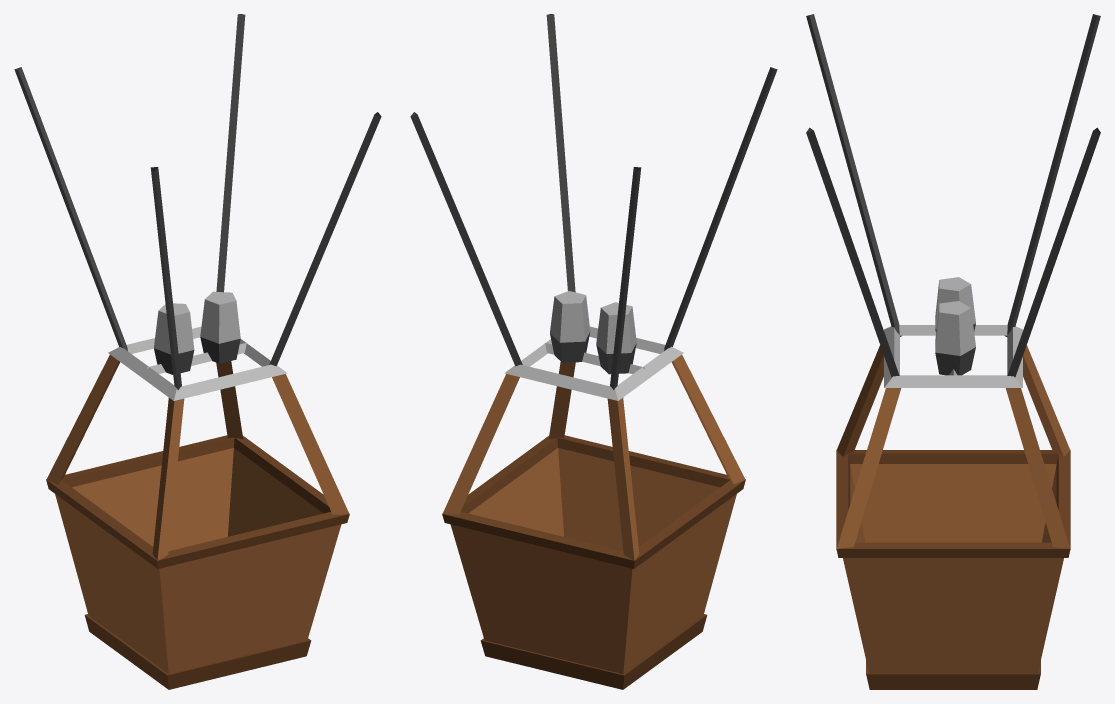
File: basket.fbx
3 renders of one model, left to right at view 1: azimuth 30°, elevation 25°; view 2: azimuth 150°, elevation 25°; view 3: azimuth 270°, elevation 25°, orthographic. The views are drawn at different scales.
Visible parts, largest first — view 1: Hot Air Balloon; view 2: Hot Air Balloon; view 3: Hot Air Balloon.
Part boxes in pixels (x1=…): Hot Air Balloon: x1=14, y1=14, x2=381, y2=689; Hot Air Balloon: x1=410, y1=14, x2=777, y2=689; Hot Air Balloon: x1=806, y1=14, x2=1100, y2=689.
Size of the model in its own units: 190 by 441 by 202.
Materials: 1 (1 with a texture image).
